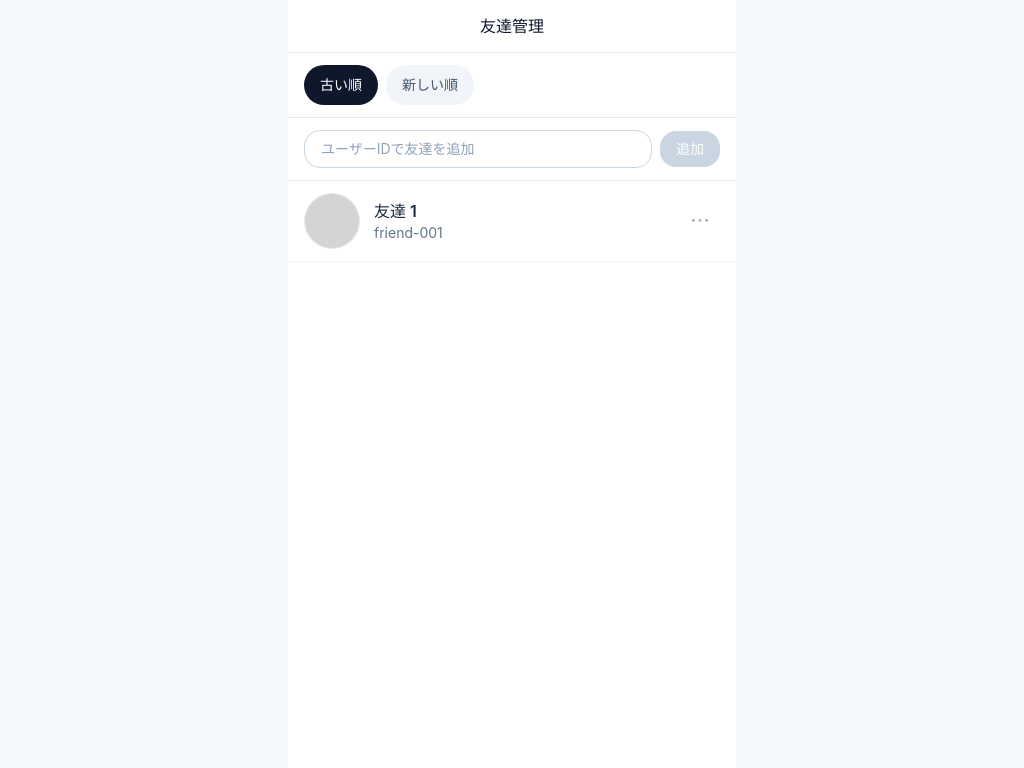
Test: FriendsPage › 詳細フライアウト › メモが無ければその旨を表示する
Click the button named "友達 1の詳細".
click(700, 221)  # box [680, 201, 720, 241]
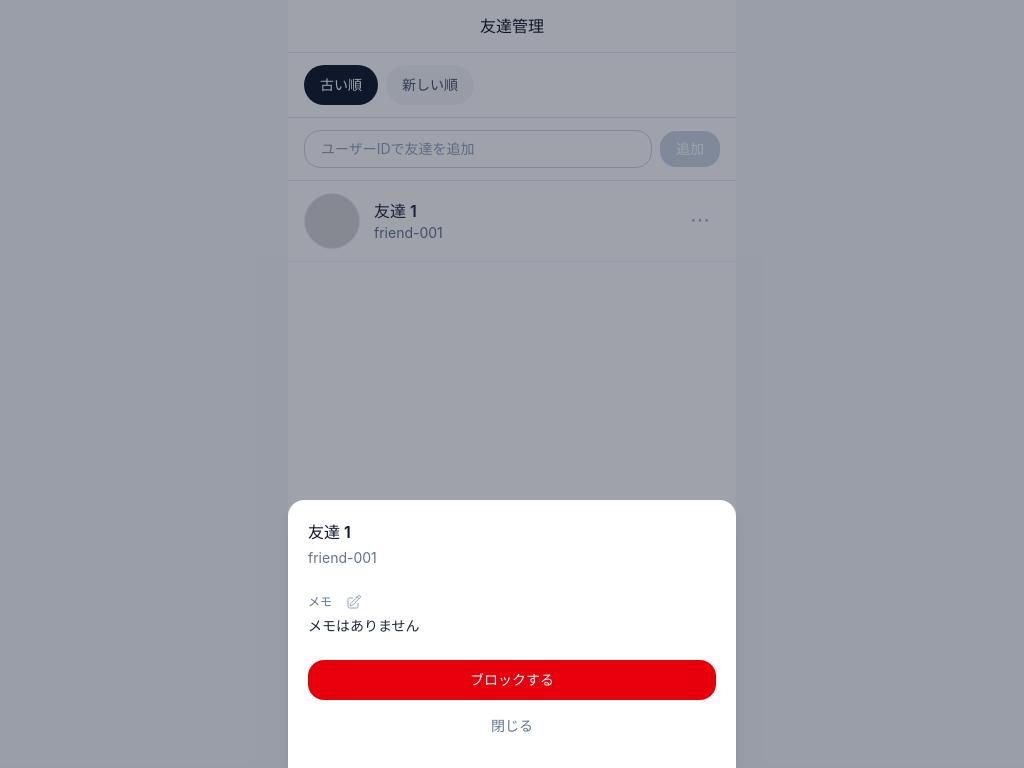
Expected: the text "メモはありません" is shown, [308, 617, 420, 634]
